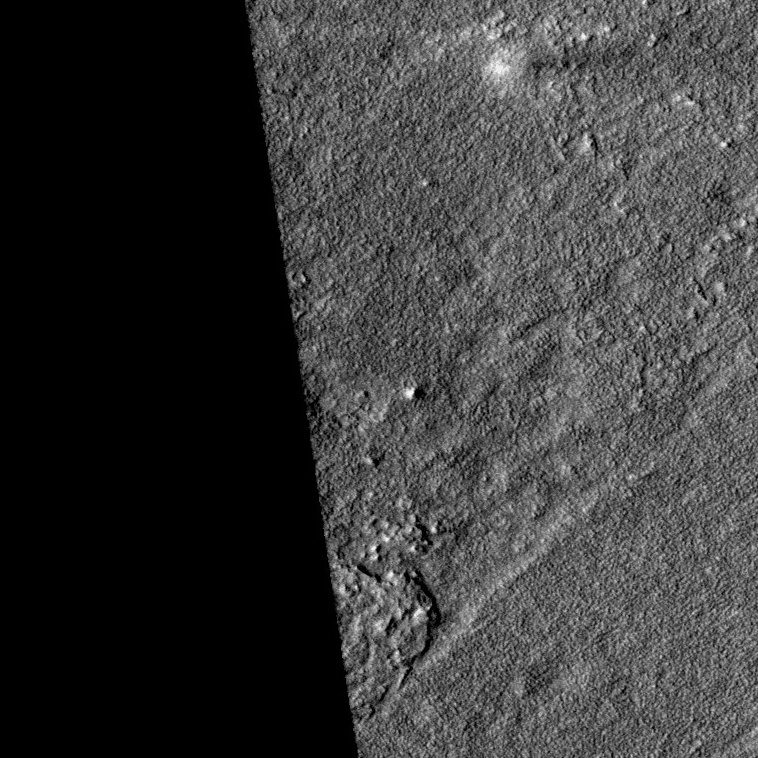dust_devil: (477, 33, 655, 103)
